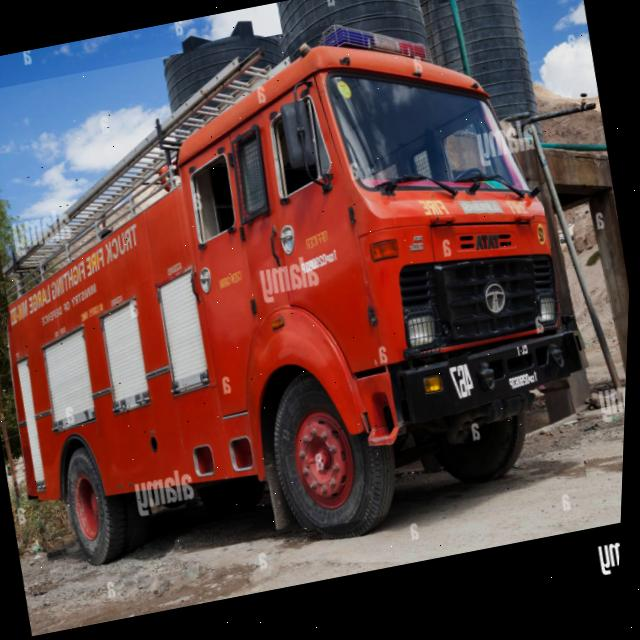Fire Truck: (0, 0, 603, 580)
